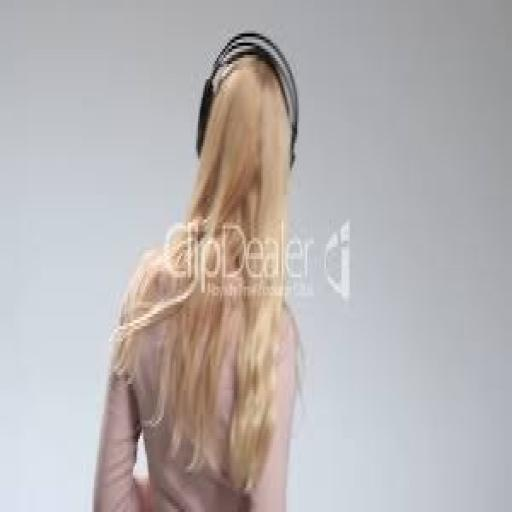listening_to_music: (89, 30, 304, 509)
